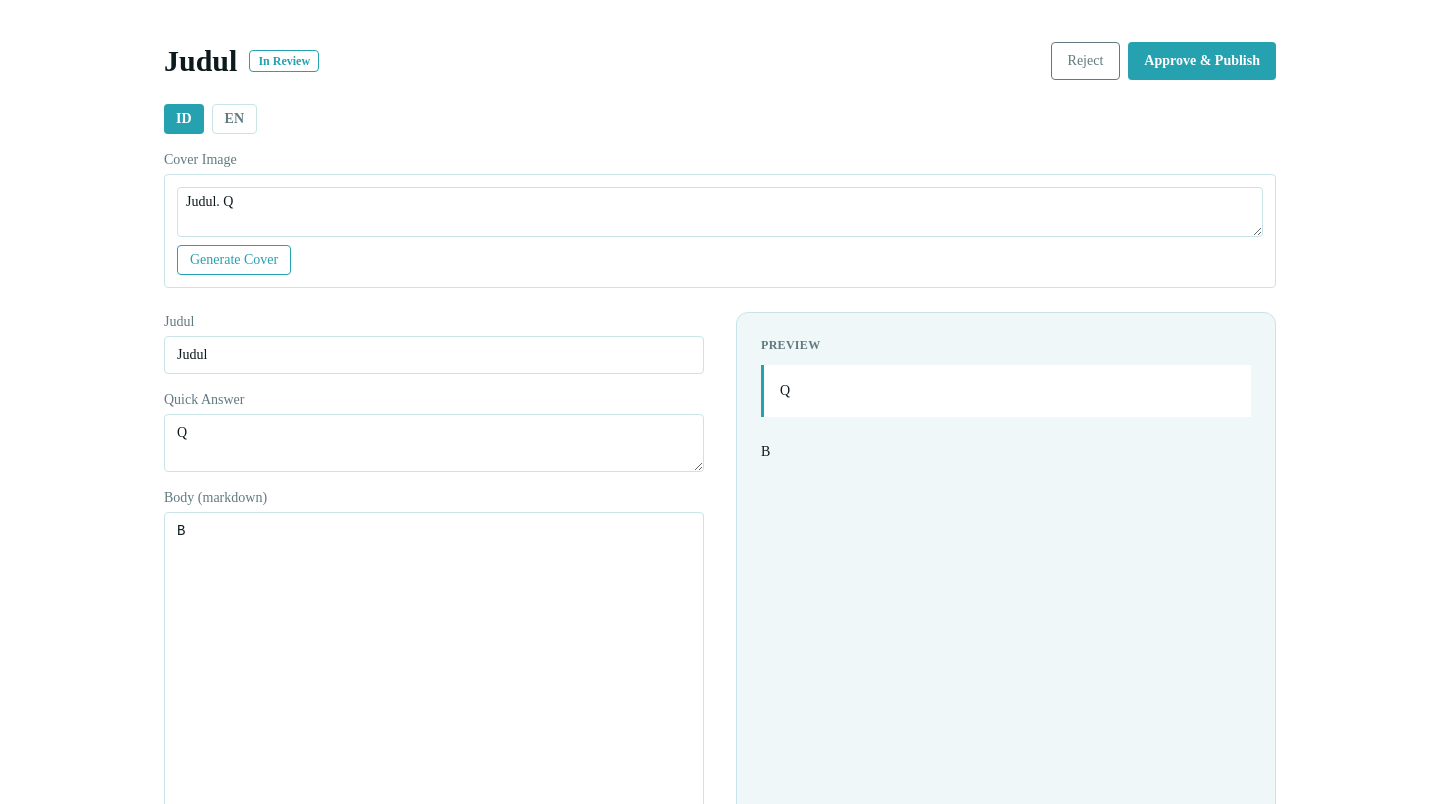
Test: EditForm — publish/reject feedback › shows an error message if publishing fails
This screenshot has width=1440, height=804.
What coordinates should you click on to do the following:
click the button "Approve & Publish"
I would click on:
 (1202, 61)
Its box is x1=1128 y1=42 x2=1276 y2=80.
(page scrolled)
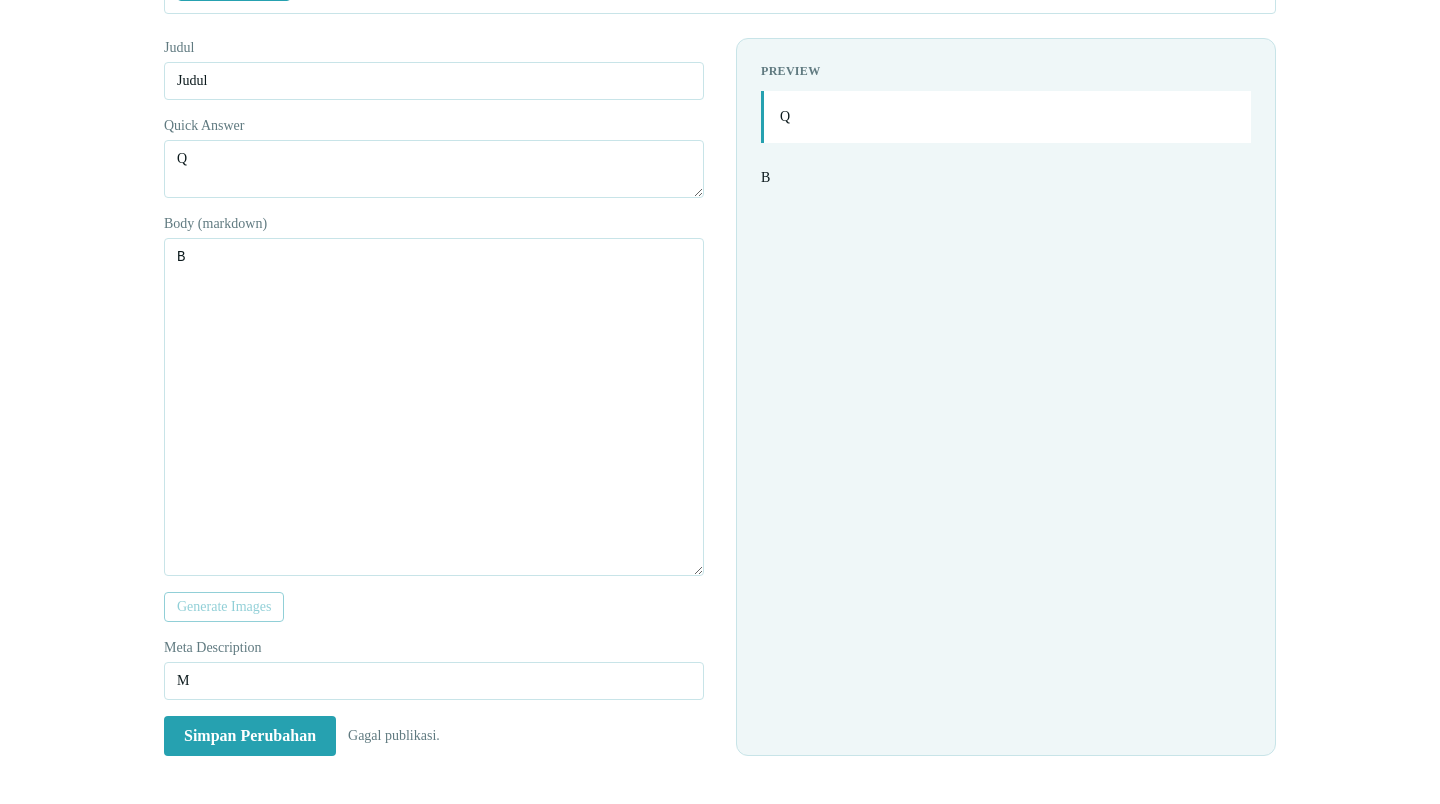
Check: the text "Gagal publikasi." is shown, box x1=348 y1=726 x2=440 y2=746
